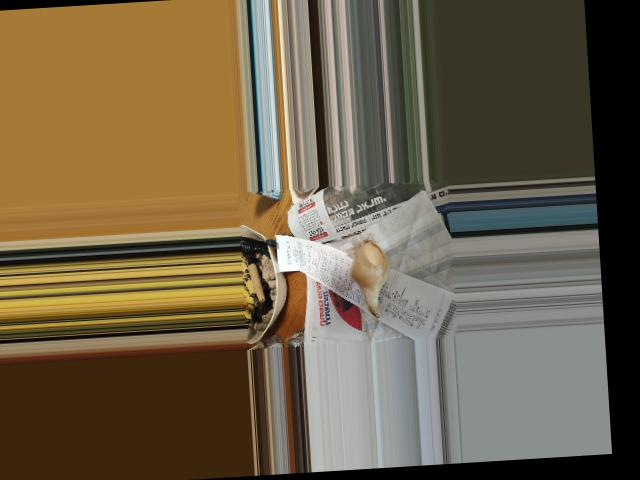onion: (348, 234, 387, 301)
